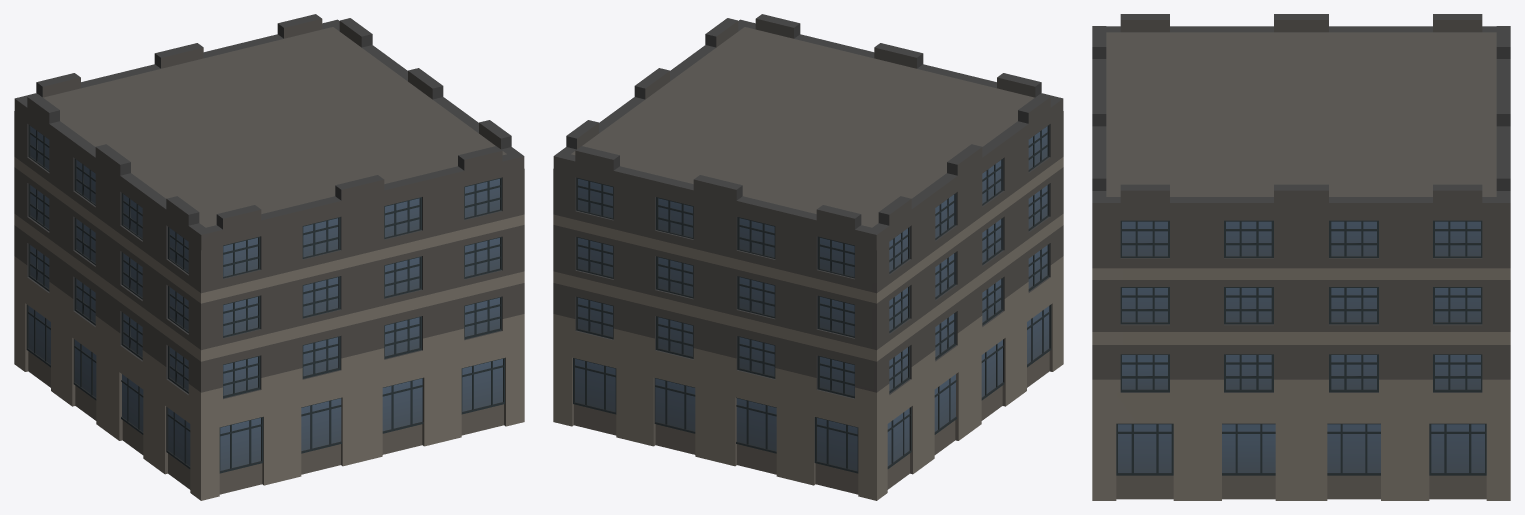
File: Residential_Loft_alt05.glb
3 views of the same model, side by side, from view 1: azimuth 30°, elevation 25°; view 2: azimuth 150°, elevation 25°; view 3: azimuth 270°, elevation 25° (orthographic). The views are drawn at different scales.
Parts seen in each view (by area): view 1: base.111, windowRefl.082; view 2: base.111, windowRefl.082; view 3: base.111, windowRefl.082.
Part boxes in pixels (x1,y1,x2,y2): base.111: (14, 14, 524, 500); windowRefl.082: (28, 126, 502, 470); base.111: (553, 14, 1063, 500); windowRefl.082: (575, 126, 1049, 470); base.111: (1092, 14, 1510, 500); windowRefl.082: (1118, 221, 1484, 472).
Size of the model in its own units: 22.17 by 18.13 by 22.17.
